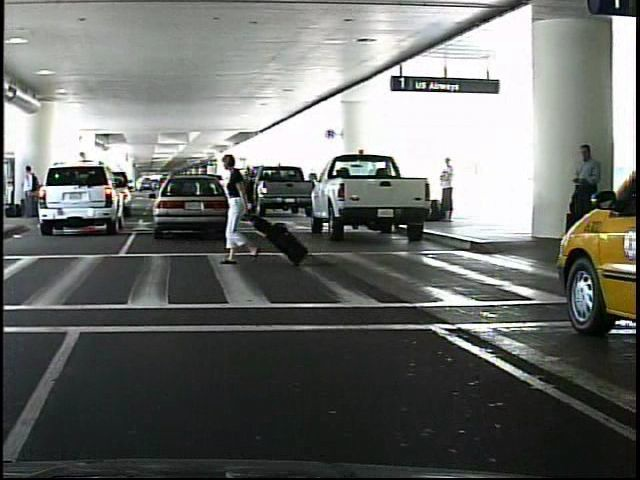person: (561, 140, 604, 253), (224, 154, 264, 265), (436, 154, 461, 223), (23, 162, 41, 223)
